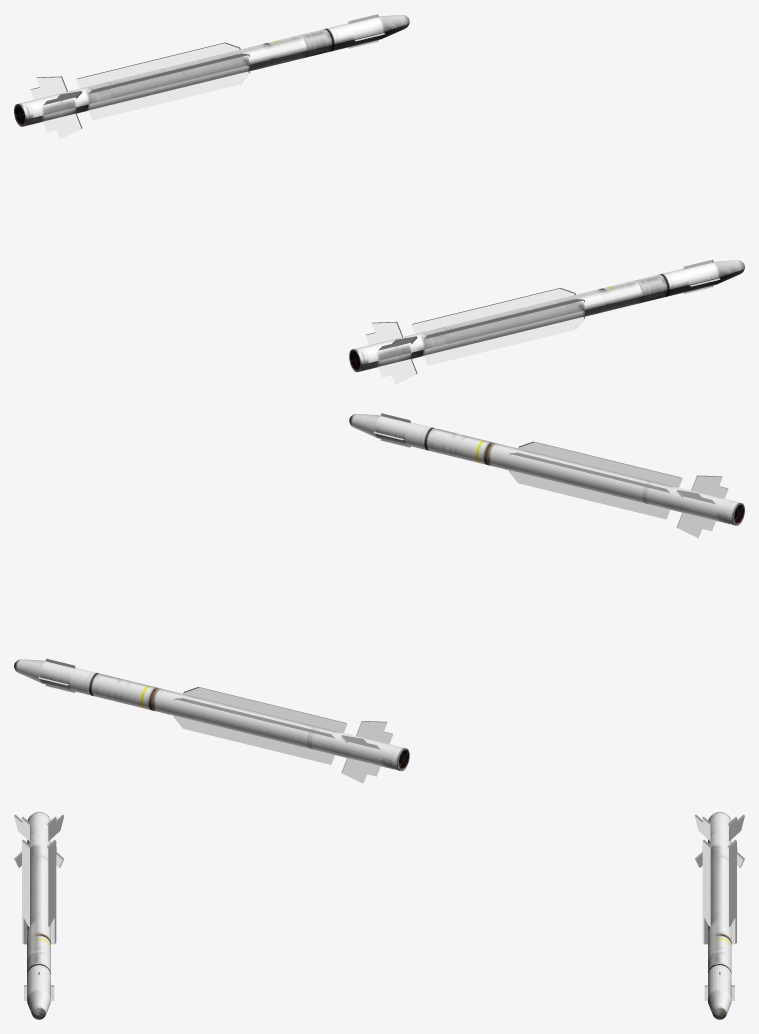
Rendered from rafalemicair38.glb.
3 renders of one model, top to bottom at view 1: azimuth 30°, elevation 25°; view 2: azimuth 150°, elevation 25°; view 3: azimuth 270°, elevation 25°, orthographic.
Visible parts, largest first — view 1: 円柱.019, 円柱.020; view 2: 円柱.020, 円柱.019; view 3: 円柱.019, 円柱.020.
Boxes of the visible parts, box(x1,y1,x2,y2) form: 円柱.019: box(349, 259, 744, 384); 円柱.020: box(14, 14, 409, 139); 円柱.020: box(14, 658, 409, 783); 円柱.019: box(349, 413, 744, 538); 円柱.019: box(14, 812, 63, 1019); 円柱.020: box(695, 812, 744, 1019).
Size of the model in its own units: 3.55 by 0.3915 by 5.69.
Materials: 1 (1 with a texture image).
